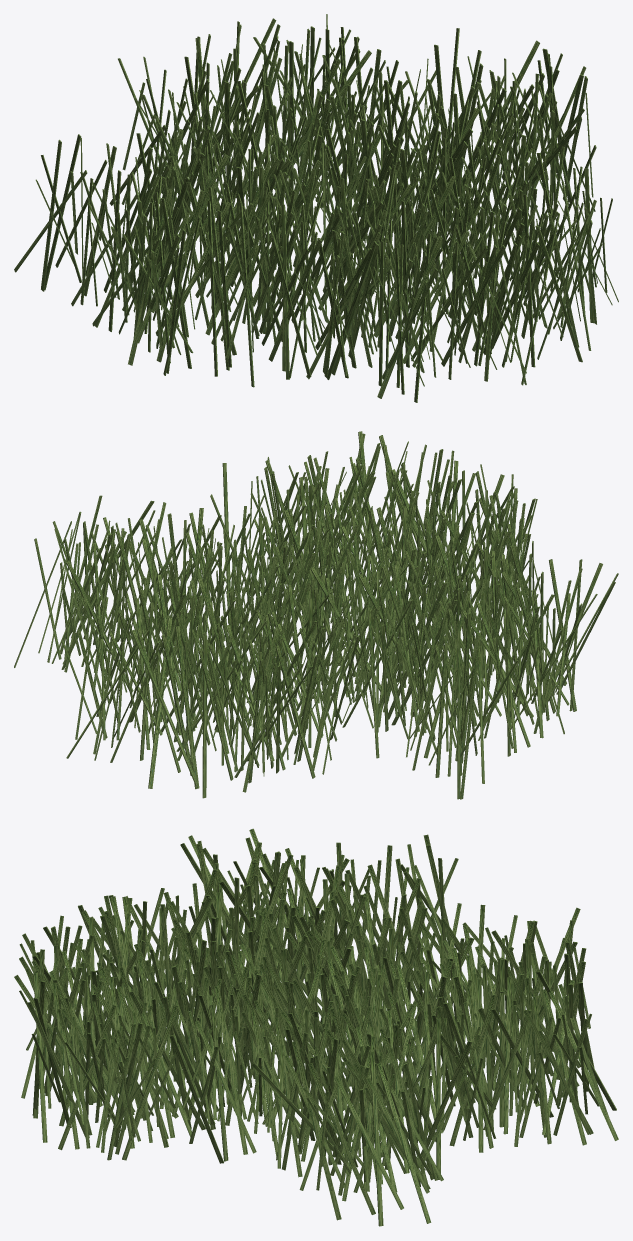
The model's file is grassClump.glb.
The picture shows the model from 3 angles, top to bottom: view 1: azimuth 30°, elevation 25°; view 2: azimuth 150°, elevation 25°; view 3: azimuth 270°, elevation 25°; orthographic projection. The views are drawn at different scales.
Parts seen in each view (by area): view 1: Cube.005 (×26); view 2: Cube.005 (×17); view 3: Cube.005 (×34).
Boxes of the visible parts, x1,y1,x2,y2 form: Cube.005 (×26): [41, 134, 582, 402]; Cube.005 (×17): [131, 559, 576, 799]; Cube.005 (×34): [27, 958, 618, 1226].
Bounding box in the file's own units: 1.1 × 0.3345 × 1.09.
Materials: 2 (2 with a texture image).
